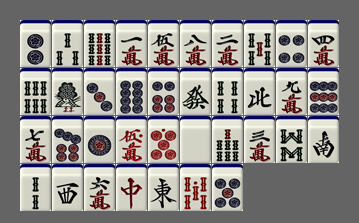0m: (116, 116, 147, 163)
0p: (148, 116, 179, 163)
0s: (180, 164, 211, 211)
1m: (116, 20, 147, 67)
1p: (84, 116, 115, 163)
1s: (52, 68, 83, 115)
1z: (148, 164, 179, 211)
2m: (212, 20, 243, 67)
2p: (20, 20, 51, 67)
2s: (20, 164, 51, 211)
2z: (308, 116, 339, 163)
3m: (244, 116, 275, 163)
3p: (84, 68, 115, 115)
3s: (52, 20, 83, 67)
3z: (52, 164, 83, 211)
4m: (308, 20, 339, 67)
4p: (276, 20, 307, 67)
4s: (212, 68, 243, 115)
4z: (244, 68, 275, 115)
5m: (148, 20, 179, 67)
5p: (212, 164, 243, 211)
5s: (244, 20, 275, 67)
5z: (180, 116, 211, 163)
6m: (84, 164, 115, 211)
6p: (148, 68, 179, 115)
6s: (20, 68, 51, 115)
6z: (180, 68, 211, 115)
7m: (20, 116, 51, 163)
7p: (52, 116, 83, 163)
7s: (212, 116, 243, 163)
7z: (116, 164, 147, 211)
8m: (180, 20, 211, 67)
8p: (116, 68, 147, 115)
8s: (276, 116, 307, 163)
9m: (276, 68, 307, 115)
9p: (308, 68, 339, 115)
9s: (84, 20, 115, 67)
